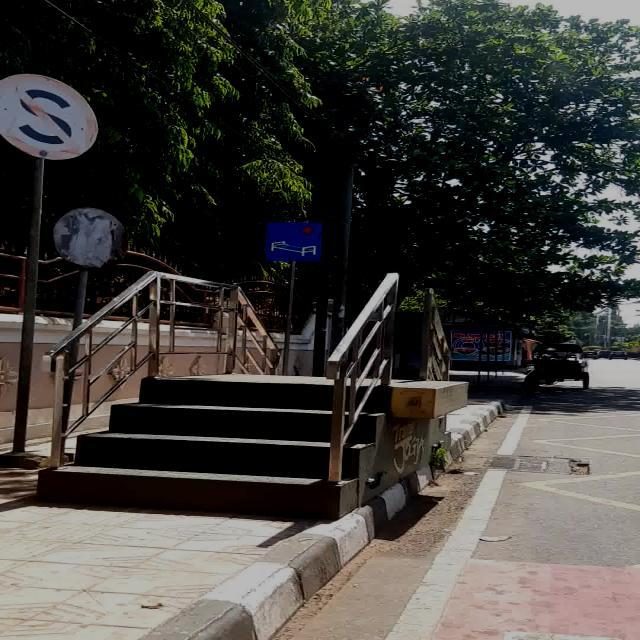Rumah Sakit: (266, 222, 322, 261)
